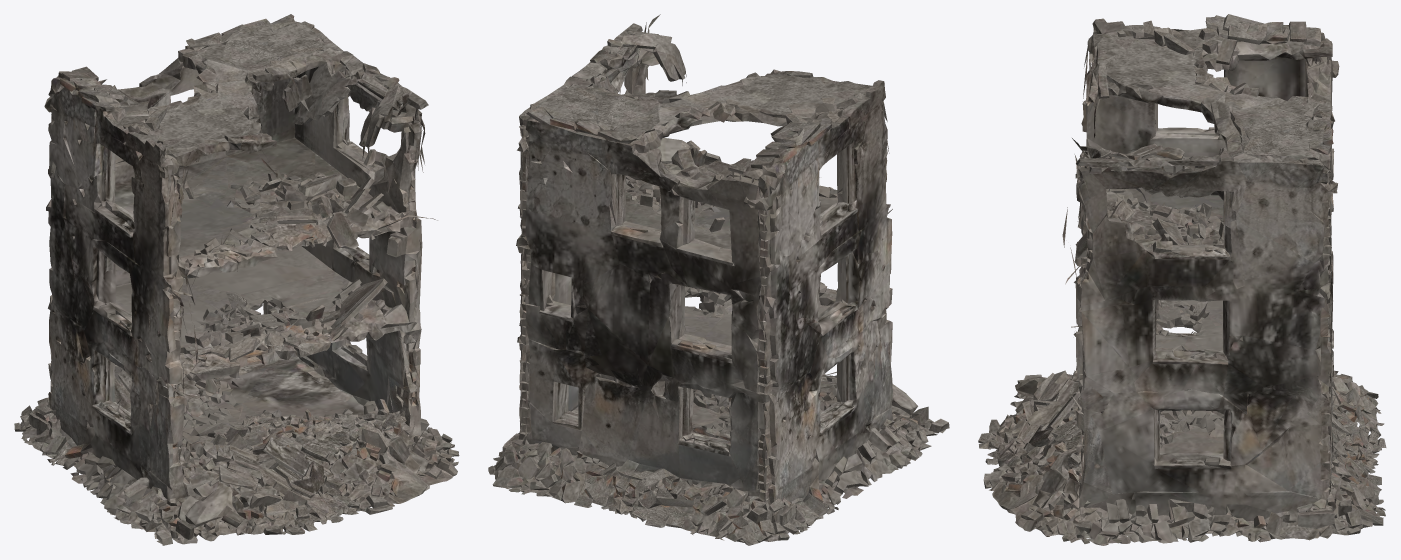
File: ruin.glb
The picture shows the model from 3 angles, left to right: view 1: azimuth 30°, elevation 25°; view 2: azimuth 150°, elevation 25°; view 3: azimuth 270°, elevation 25°; orthographic projection. The views are drawn at different scales.
Parts seen in each view (by area): view 1: Mesh_0; view 2: Mesh_0; view 3: Mesh_0.
Part boxes in pixels (x1,y1,x2,y2): Mesh_0: (14,14,459,545); Mesh_0: (488,14,949,545); Mesh_0: (978,14,1386,545).
Size of the model in its own units: 1.76 by 1.88 by 1.81.
Materials: 1 (1 with a texture image).
